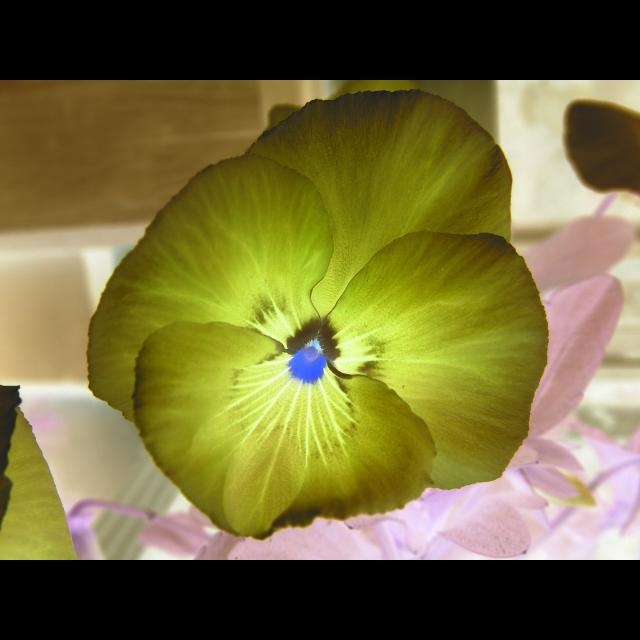Flower: (87, 90, 549, 542)
